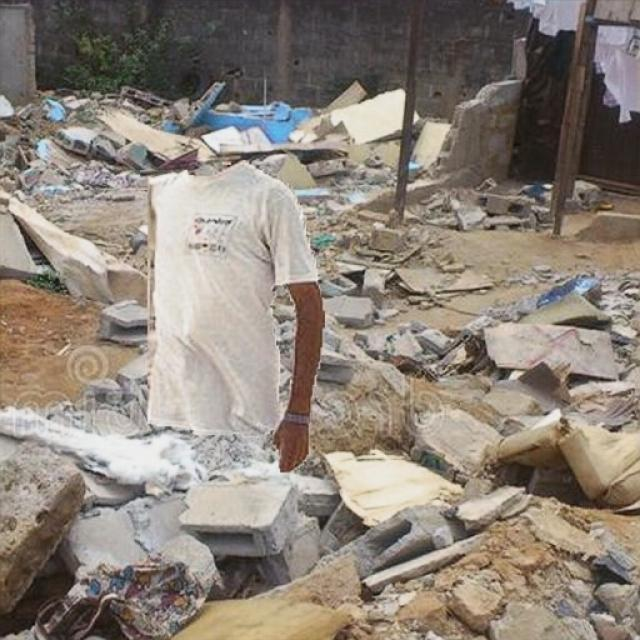Person in Rubble: (148, 160, 324, 471)
